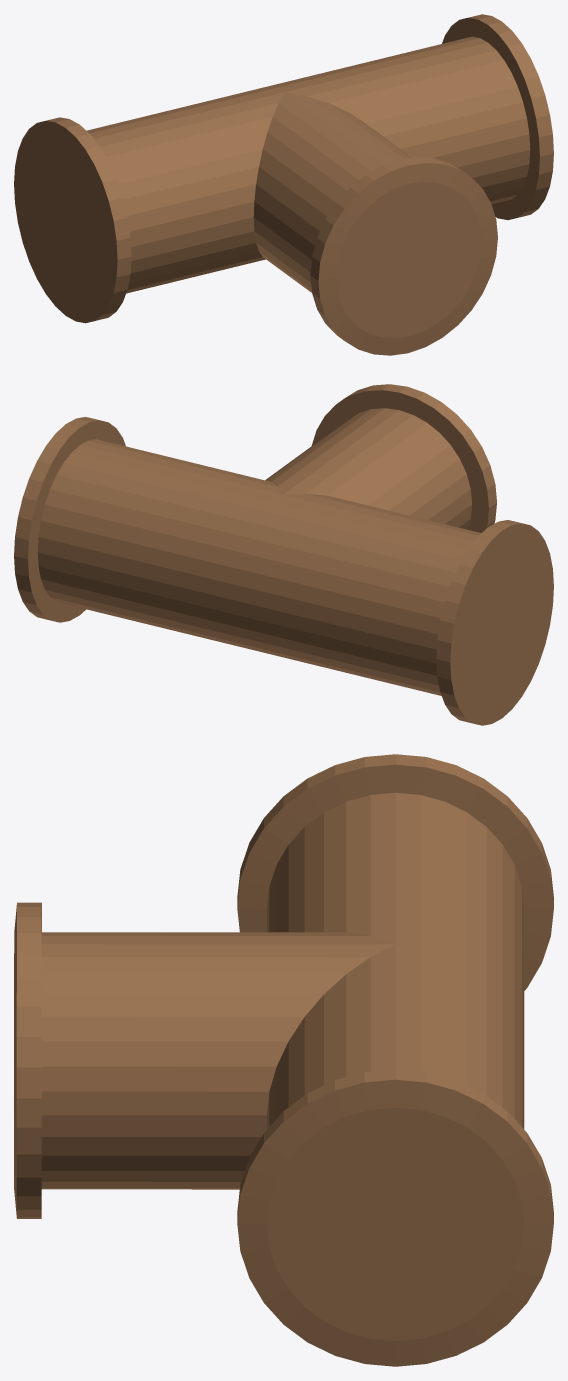
The model's file is rohr_T.fbx.
The picture shows the model from 3 angles, top to bottom: view 1: azimuth 30°, elevation 25°; view 2: azimuth 150°, elevation 25°; view 3: azimuth 270°, elevation 25°; orthographic projection. The views are drawn at different scales.
Parts seen in each view (by area): view 1: Zylinder.005; view 2: Zylinder.005; view 3: Zylinder.005.
Part boxes in pixels (x1,y1,x2,y2): Zylinder.005: (14,14,553,355); Zylinder.005: (14,384,553,725); Zylinder.005: (14,754,553,1366).
Size of the model in its own units: 120 by 49.21 by 83.9.
